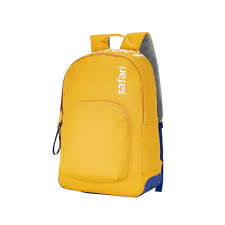backpack: (52, 31, 164, 197)
